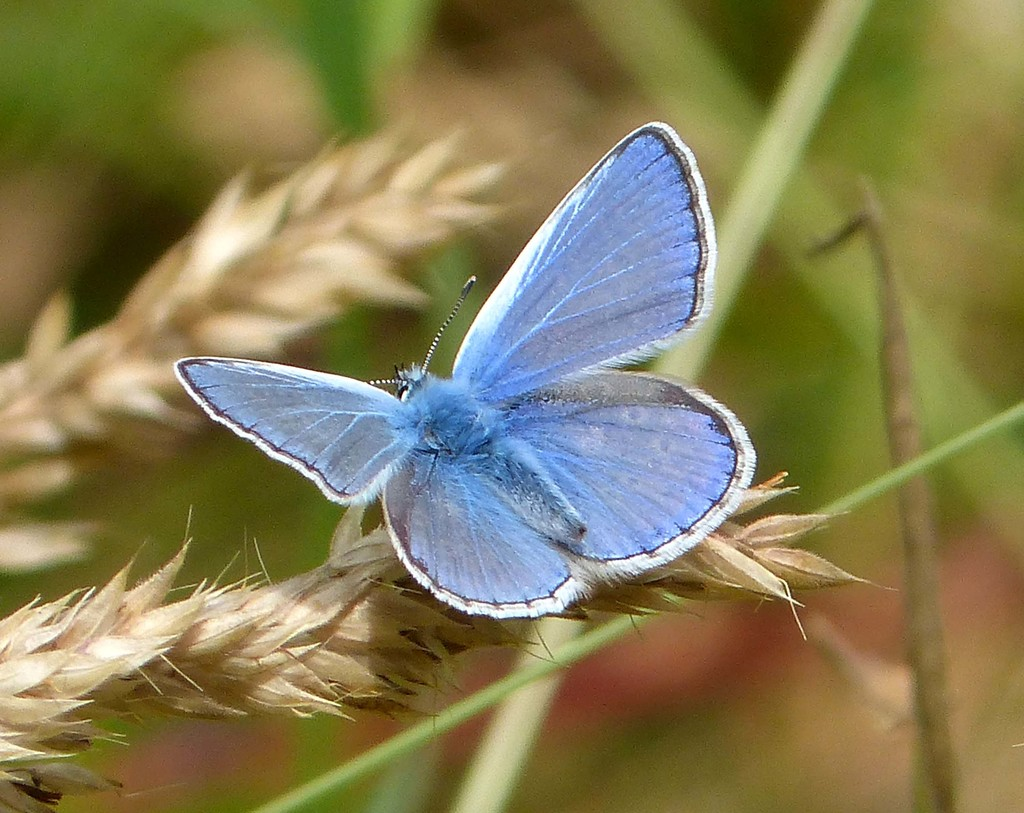Butterfly: (179, 113, 790, 676)
